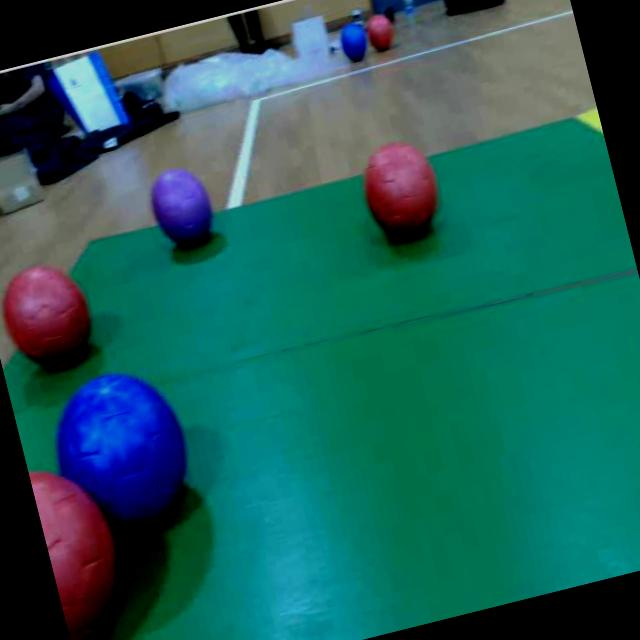blue_ball: (41, 357, 206, 538), (335, 17, 375, 64)
purple_ball: (144, 162, 223, 254)
red_ball: (27, 449, 144, 640), (0, 253, 103, 381), (354, 133, 450, 249), (364, 8, 402, 54)
